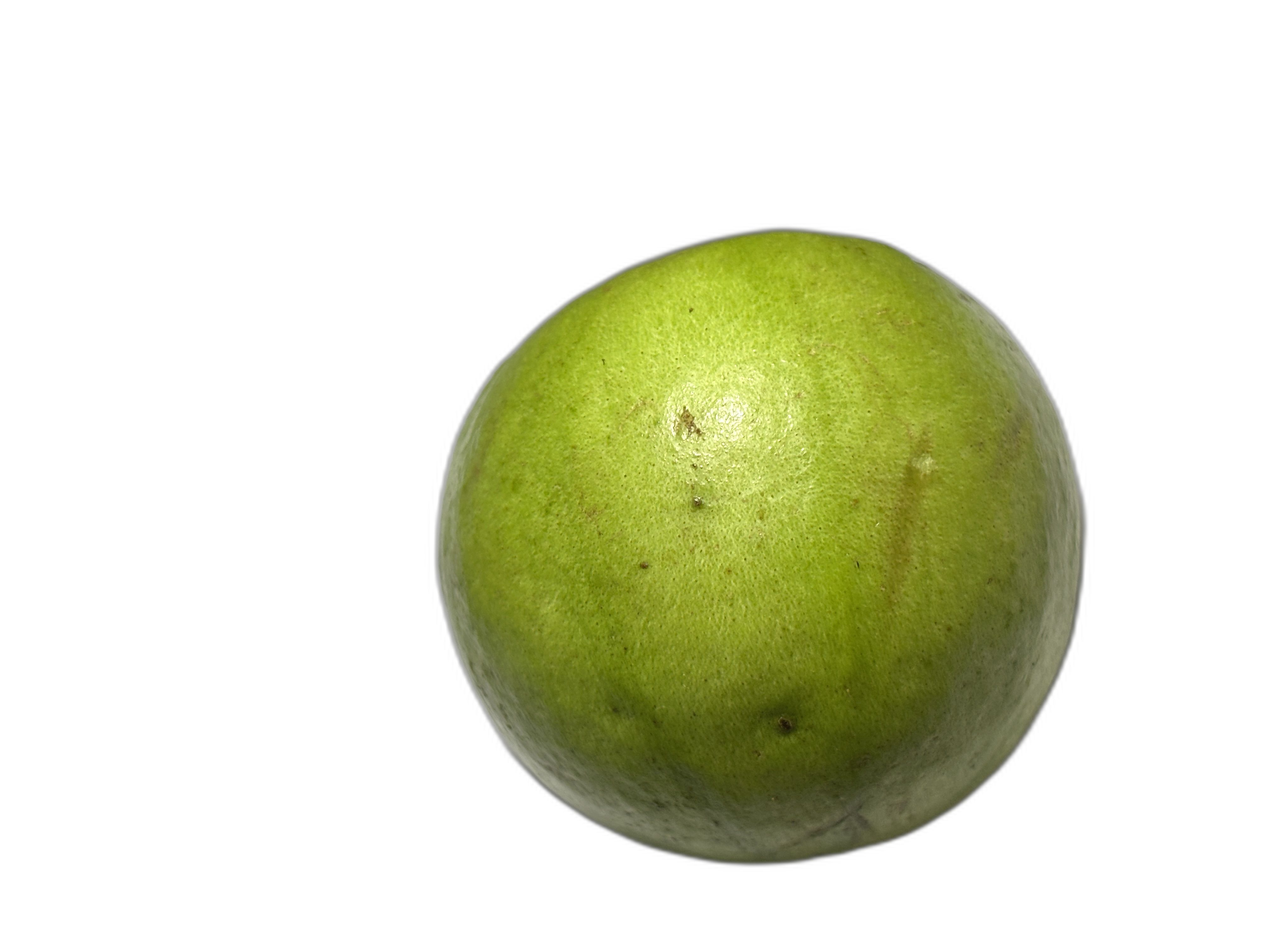guava: (213, 220, 981, 840)
